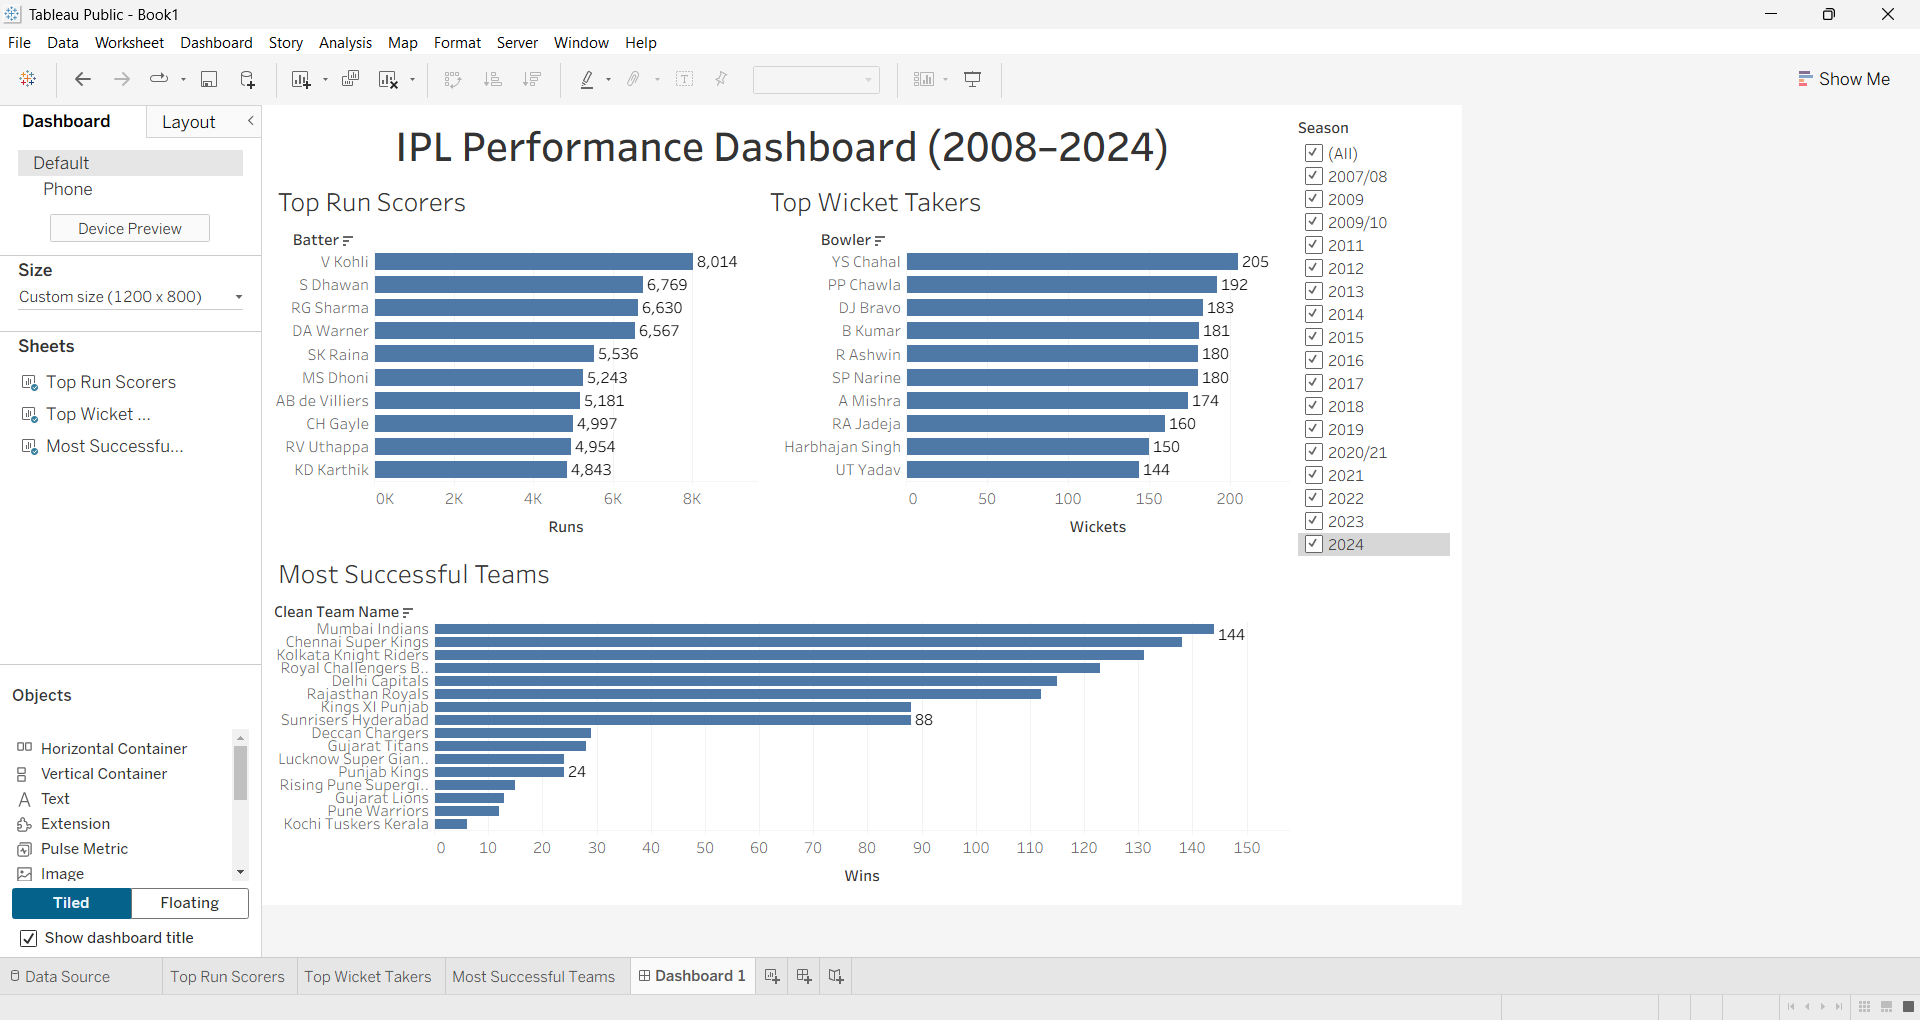

Layout of this report page (visuals, bound fields, positions):
{"tool":"tableau","page":{"name":"Dashboard 1","canvas":[1200,800],"ordinal":0},"visuals":[{"type":"title","box":[8,8,1024,63]},{"type":"filter","title":"Top Run Scorers","param":"[federated.1xsx6sp127olsz1frp0at1vo6tup].[none:season:nk]","box":[1032,8,160,450]},{"type":"worksheet","title":"Top Run Scorers","mark":"Automatic","rows":["batter"],"cols":["batsman_runs"],"box":[8,71,492,372]},{"type":"worksheet","title":"Top Wicket Takers","mark":"Automatic","rows":["bowler"],"cols":["player_dismissed"],"box":[500,71,532,372]},{"type":"worksheet","title":"Most Successful Teams","mark":"Automatic","rows":["Calculation_1596279145091072"],"cols":["id"],"box":[8,443,1024,349]}]}

Visuals, with their boxes on the page's 1200x800 design canvas (x1, y1, x2, y2). These are canvas units, not pixel positions in the 1920x1020 screenshot, which may show the page scaled, cropped or inside an application window:
title: <bbox>8, 8, 1032, 71</bbox>
"Top Run Scorers" filter: <bbox>1032, 8, 1192, 458</bbox>
"Top Run Scorers" worksheet: <bbox>8, 71, 500, 443</bbox>
"Top Wicket Takers" worksheet: <bbox>500, 71, 1032, 443</bbox>
"Most Successful Teams" worksheet: <bbox>8, 443, 1032, 792</bbox>
